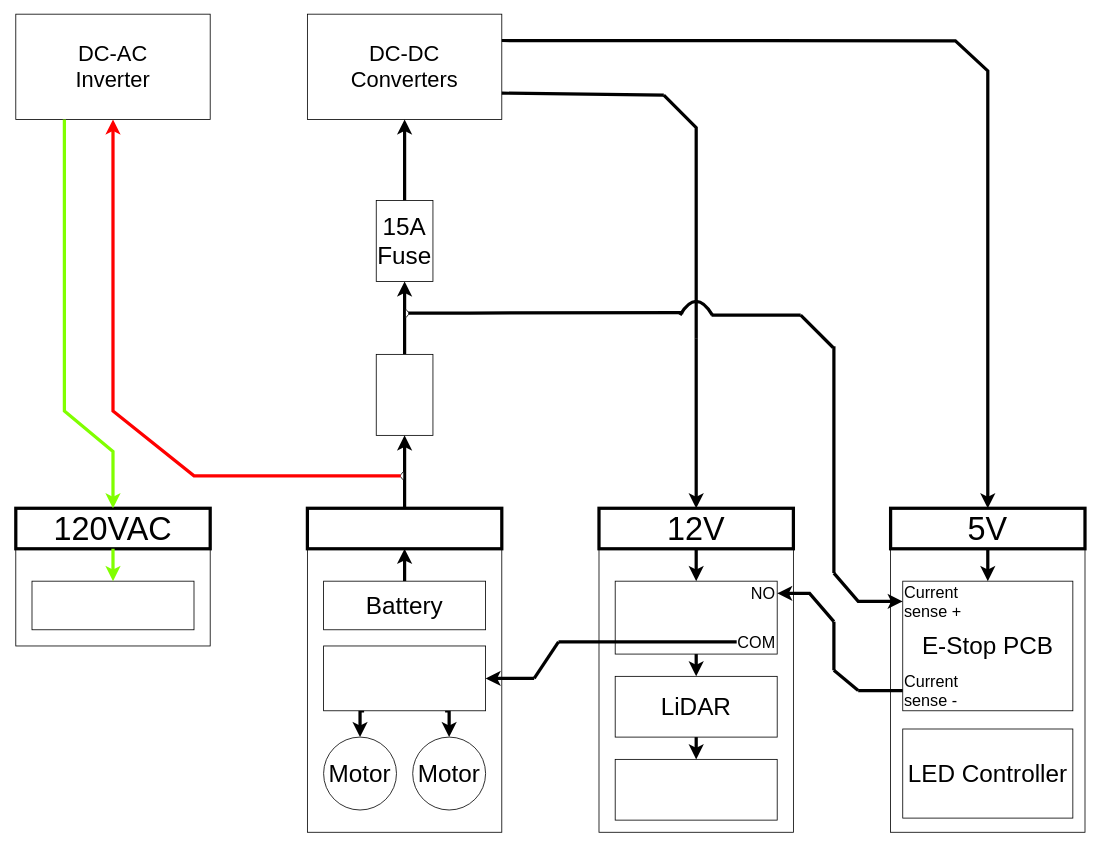
This 1100x846 diagram has some shape labels left out. Here are the shapes that lost their labels. From the top down, the box of each, then its label:
(375, 354, 433, 435): 80A Fuse
(305, 506, 503, 550): 24V
(31, 580, 194, 630): Intel NUC
(614, 580, 777, 654): Relay
(323, 645, 486, 711): ODrive Motor Controller
(614, 759, 777, 820): Safety LEDs
